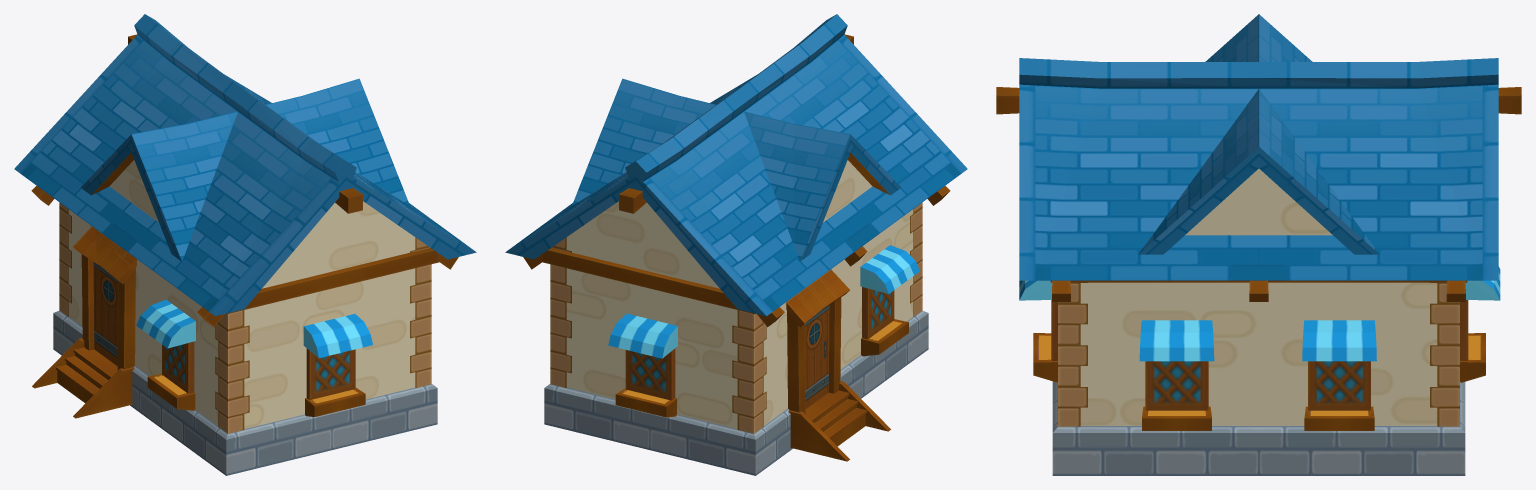
File: HOS0110002.FBX
The picture shows the model from 3 angles, left to right: view 1: azimuth 30°, elevation 25°; view 2: azimuth 150°, elevation 25°; view 3: azimuth 270°, elevation 25°; orthographic projection. The views are drawn at different scales.
Visible parts, largest first — view 1: smHOS0110002; view 2: smHOS0110002; view 3: smHOS0110002.
Part boxes in pixels (box(x1,y1,x2,y2)): smHOS0110002: box(14, 14, 476, 475); smHOS0110002: box(505, 14, 967, 475); smHOS0110002: box(996, 14, 1521, 475).
Size of the model in its own units: 6.73 by 6.54 by 8.74.
Materials: 1 (1 with a texture image).
